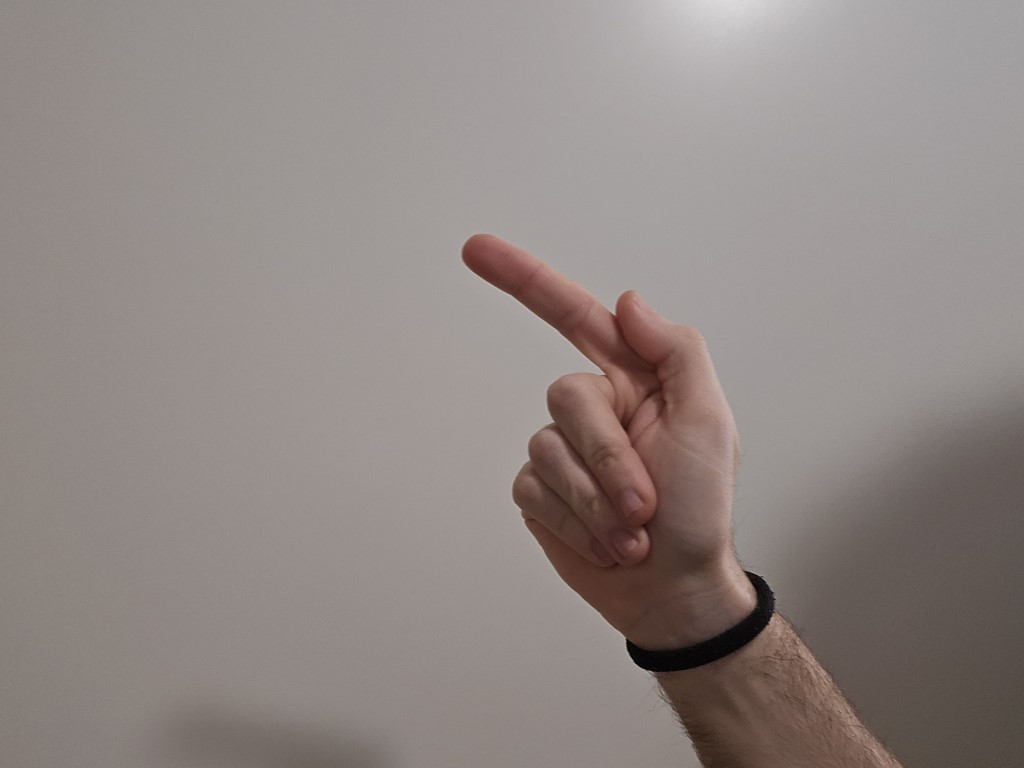g: (434, 207, 757, 619)
